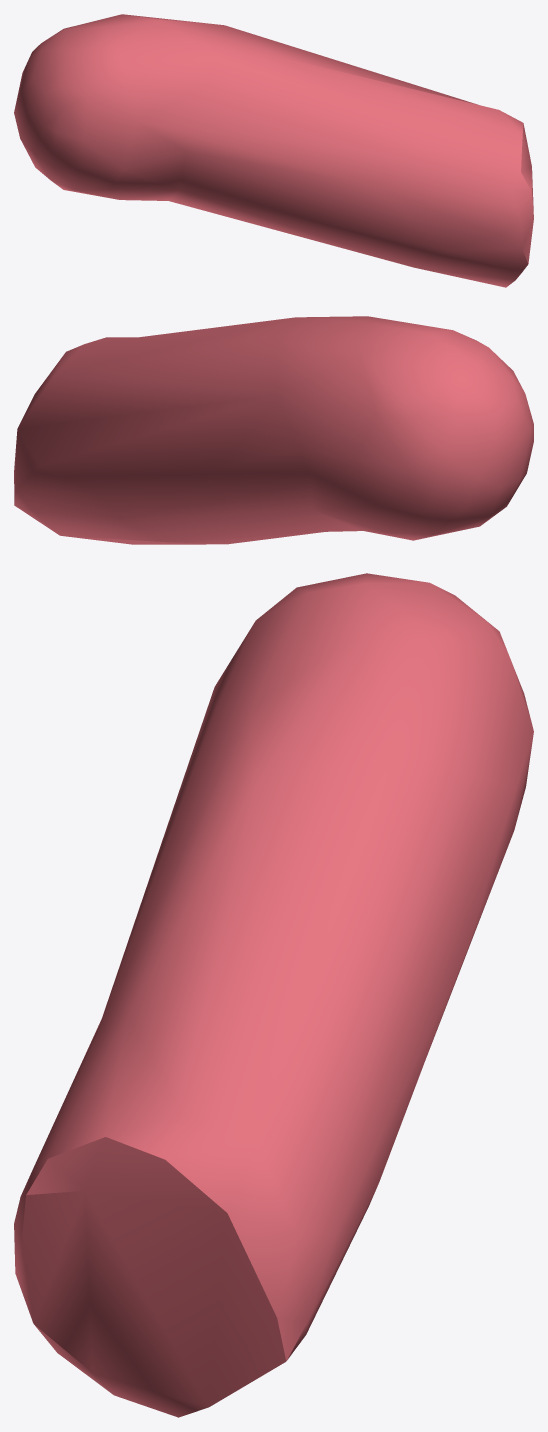
Rendered from fma3855_fj2737.glb.
3 renders of one model, top to bottom at view 1: azimuth 30°, elevation 25°; view 2: azimuth 150°, elevation 25°; view 3: azimuth 270°, elevation 25°, orthographic. The views are drawn at different scales.
Parts seen in each view (by area): view 1: FMA3855_FJ2737; view 2: FMA3855_FJ2737; view 3: FMA3855_FJ2737.
Part boxes in pixels (x1=…): FMA3855_FJ2737: x1=14, y1=14, x2=533, y2=287; FMA3855_FJ2737: x1=14, y1=316, x2=533, y2=544; FMA3855_FJ2737: x1=14, y1=573, x2=533, y2=1417.
Bounding box in the file's own units: 0.011 × 0.00687 × 0.00612.
